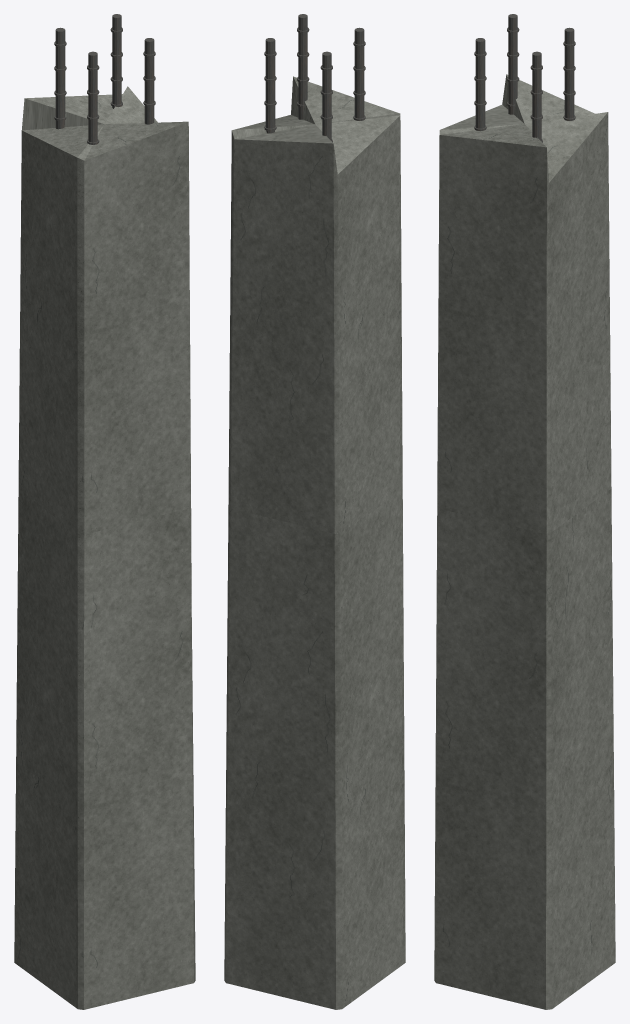
The model's file is PZ_Column_0400_3m_Damaged.glb.
The picture shows the model from 3 angles, left to right: view 1: azimuth 30°, elevation 25°; view 2: azimuth 150°, elevation 25°; view 3: azimuth 330°, elevation 25°; orthographic projection.
Parts seen in each view (by area): view 1: RENDER_PZ_Column_0400_3m_Damaged__RENDER_Concrete_Column_Cor, RENDER_PZ_Column_0400_3m_Damaged__RENDER_Rebar_04_Shaft__022, RENDER_PZ_Column_0400_3m_Damaged__RENDER_Rebar_02_Shaft__008, RENDER_PZ_Column_0400_3m_Damaged__RENDER_Rebar_03_Shaft__015, RENDER_PZ_Column_0400_3m_Damaged__RENDER_Rebar_01_Shaft__001; view 2: RENDER_PZ_Column_0400_3m_Damaged__RENDER_Concrete_Column_Cor, RENDER_PZ_Column_0400_3m_Damaged__RENDER_Rebar_03_Shaft__015, RENDER_PZ_Column_0400_3m_Damaged__RENDER_Rebar_01_Shaft__001, RENDER_PZ_Column_0400_3m_Damaged__RENDER_Rebar_02_Shaft__008, RENDER_PZ_Column_0400_3m_Damaged__RENDER_Rebar_04_Shaft__022; view 3: RENDER_PZ_Column_0400_3m_Damaged__RENDER_Concrete_Column_Cor, RENDER_PZ_Column_0400_3m_Damaged__RENDER_Rebar_03_Shaft__015, RENDER_PZ_Column_0400_3m_Damaged__RENDER_Rebar_01_Shaft__001, RENDER_PZ_Column_0400_3m_Damaged__RENDER_Rebar_04_Shaft__022, RENDER_PZ_Column_0400_3m_Damaged__RENDER_Rebar_02_Shaft__008.
Part boxes in pixels (x1,y1,x2,y2): RENDER_PZ_Column_0400_3m_Damaged__RENDER_Concrete_Column_Cor: (14,86,195,1009); RENDER_PZ_Column_0400_3m_Damaged__RENDER_Rebar_04_Shaft__022: (55,27,65,129); RENDER_PZ_Column_0400_3m_Damaged__RENDER_Rebar_02_Shaft__008: (144,38,154,124); RENDER_PZ_Column_0400_3m_Damaged__RENDER_Rebar_03_Shaft__015: (112,14,121,108); RENDER_PZ_Column_0400_3m_Damaged__RENDER_Rebar_01_Shaft__001: (88,51,97,142); RENDER_PZ_Column_0400_3m_Damaged__RENDER_Concrete_Column_Cor: (224,76,405,1009); RENDER_PZ_Column_0400_3m_Damaged__RENDER_Rebar_03_Shaft__015: (265,38,275,133); RENDER_PZ_Column_0400_3m_Damaged__RENDER_Rebar_01_Shaft__001: (354,27,364,118); RENDER_PZ_Column_0400_3m_Damaged__RENDER_Rebar_02_Shaft__008: (298,14,307,119); RENDER_PZ_Column_0400_3m_Damaged__RENDER_Rebar_04_Shaft__022: (322,51,331,140); RENDER_PZ_Column_0400_3m_Damaged__RENDER_Concrete_Column_Cor: (434,74,615,1009); RENDER_PZ_Column_0400_3m_Damaged__RENDER_Rebar_03_Shaft__015: (564,27,574,118); RENDER_PZ_Column_0400_3m_Damaged__RENDER_Rebar_01_Shaft__001: (475,38,485,128); RENDER_PZ_Column_0400_3m_Damaged__RENDER_Rebar_04_Shaft__022: (508,14,517,114); RENDER_PZ_Column_0400_3m_Damaged__RENDER_Rebar_02_Shaft__008: (532,51,541,140).
Size of the model in its own units: 0.4 by 3.04 by 0.4.
Materials: 2 (2 with a texture image).
